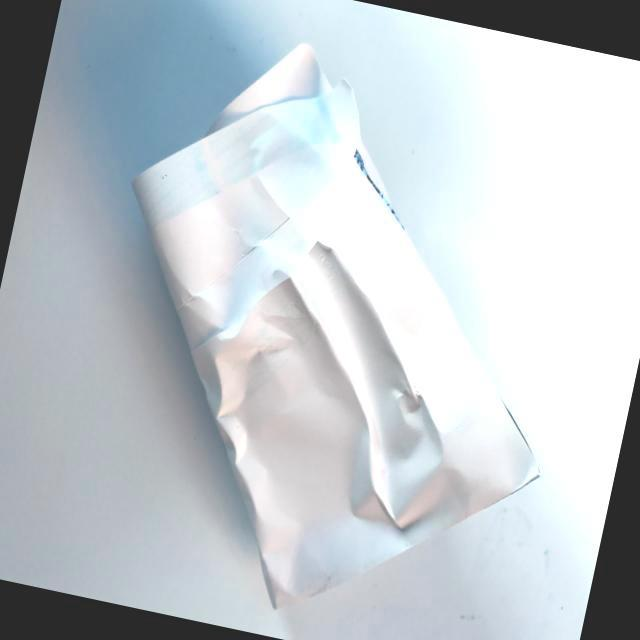paper: (48, 12, 618, 640)
